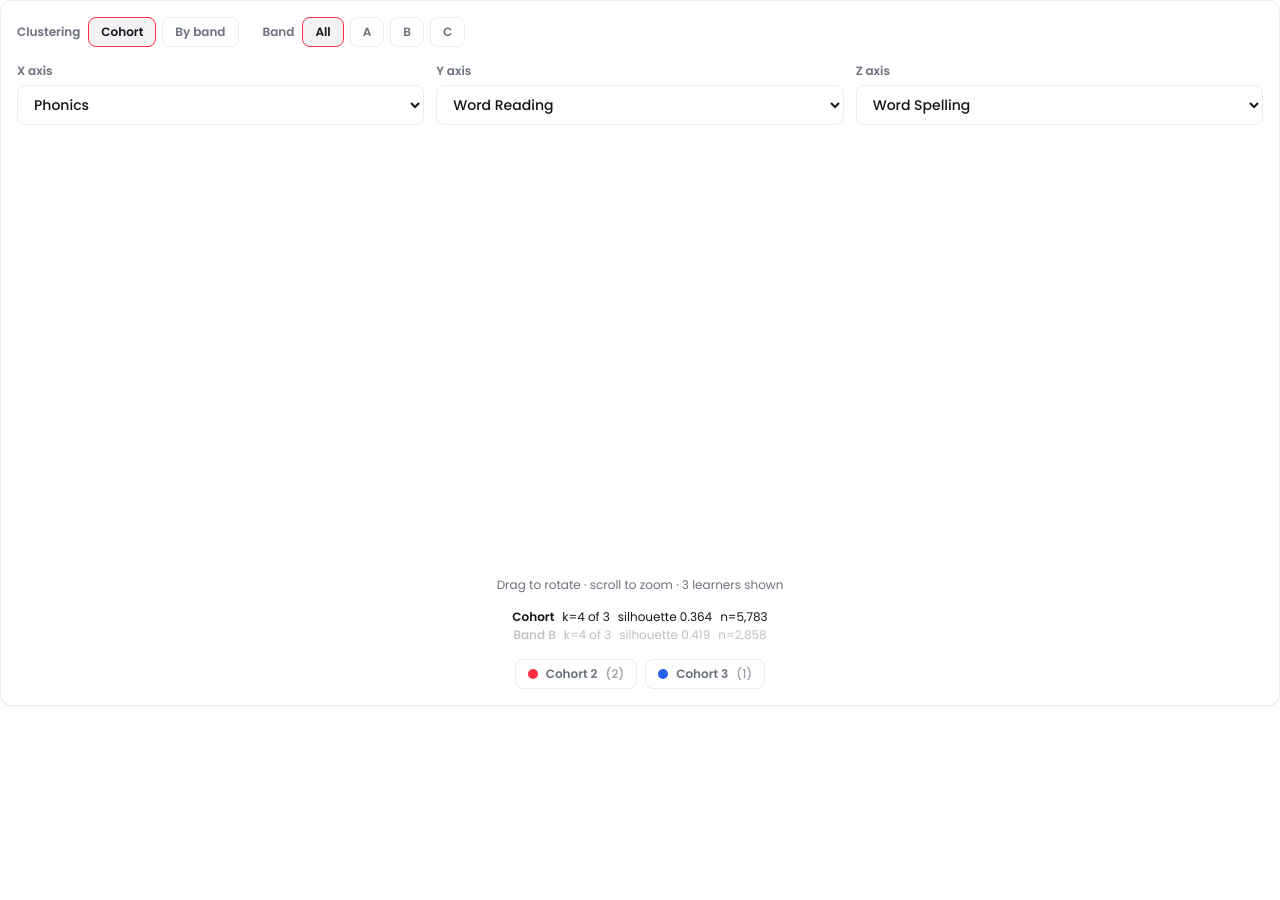
Scenario: UT-2.34: a selected cluster chip is cleared when the scope changes
The image size is (1280, 900).
Click the button "Cohort 2 (2)": (576, 674) left=515, top=659, right=637, bottom=689
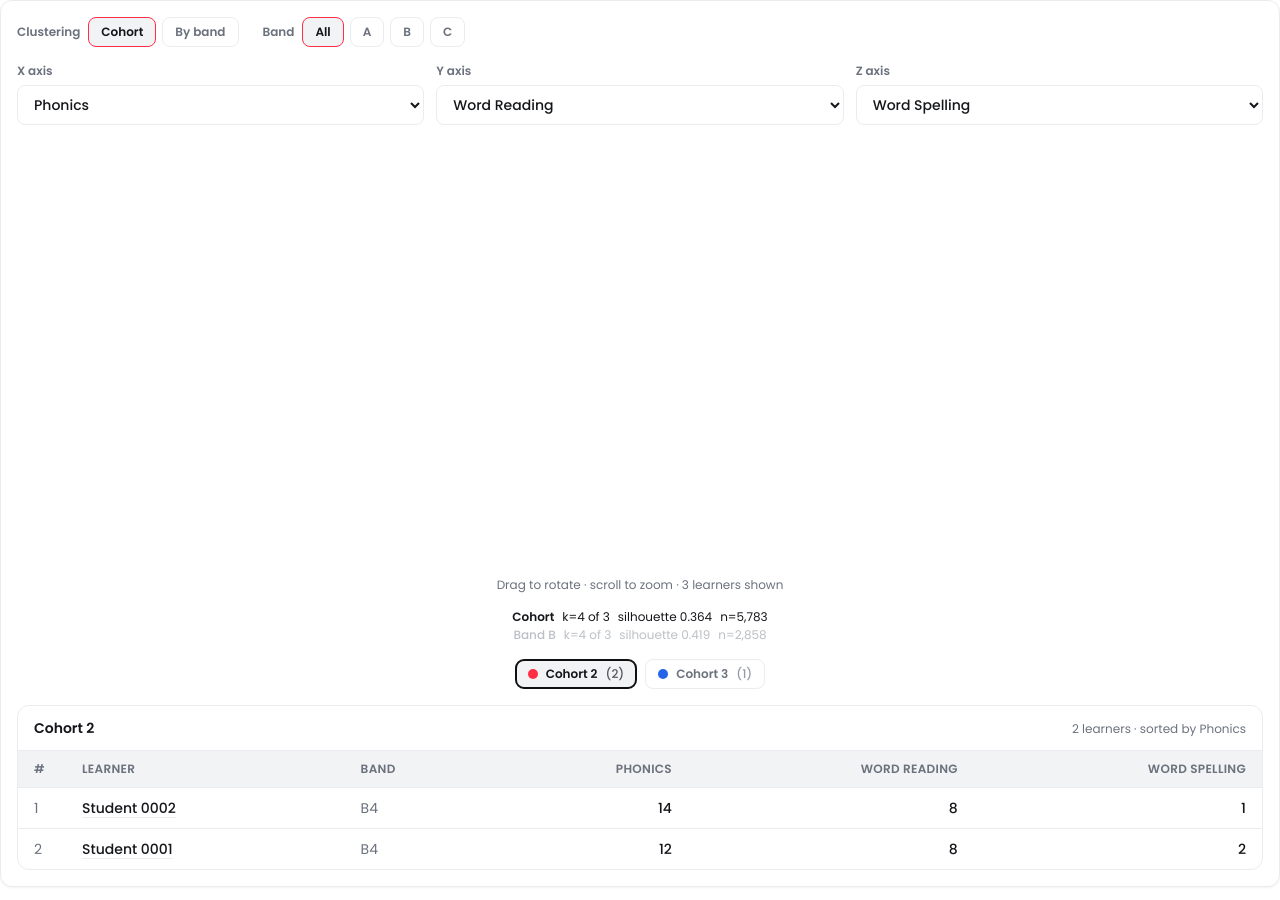
Expected: the table is shown, left=18, top=750, right=1262, bottom=869
Click the radio button labelled "By band": (200, 32) left=162, top=17, right=238, bottom=47
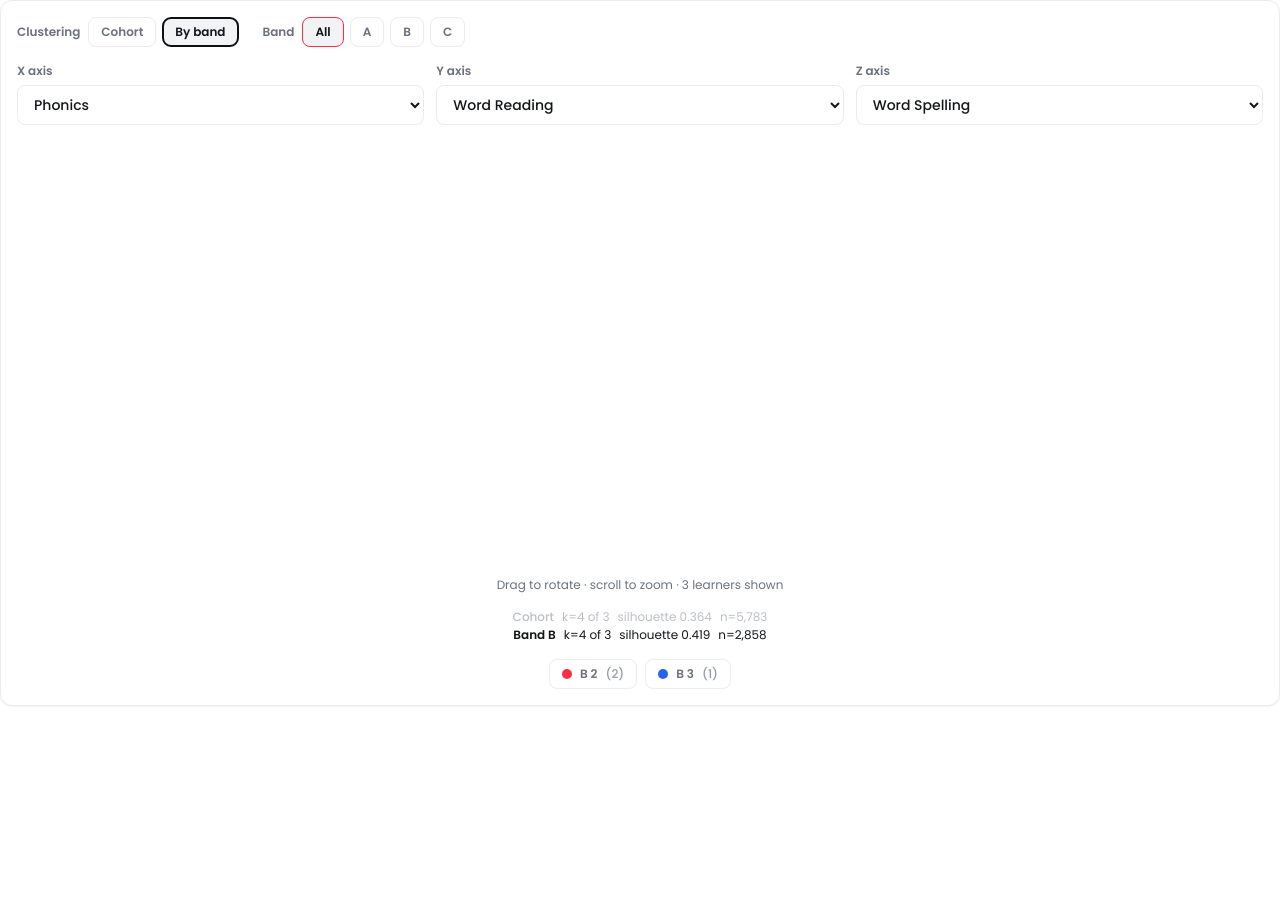
Expected: the table is gone
